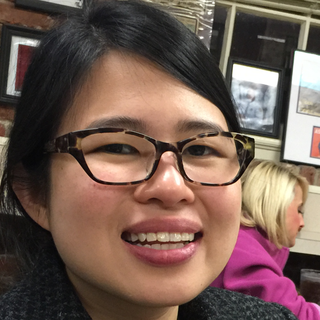eye: (86, 140, 143, 164), (178, 140, 223, 163)
